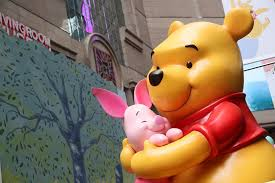Winnie: (139, 11, 265, 153)
